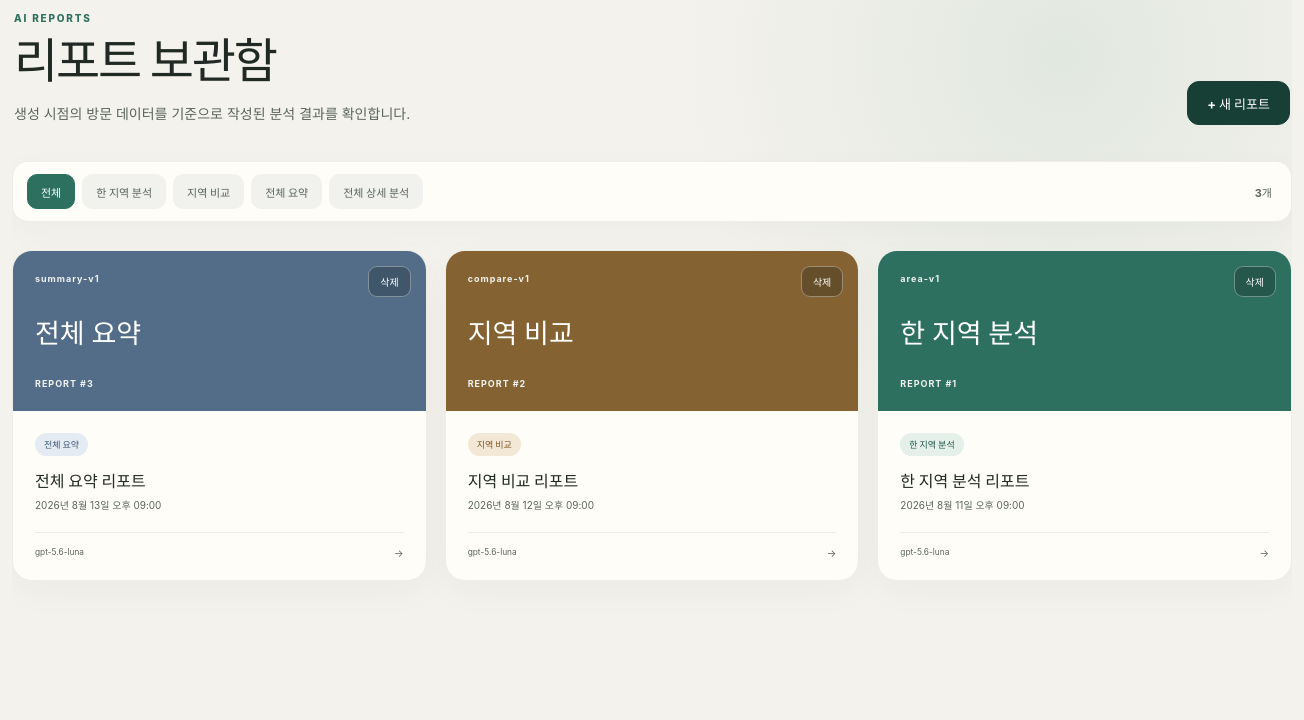
ReportsPage › 전체 목록을 한 번 조회하고 선택한 유형을 즉시 필터링한다
Expected: the heading "한 지역 분석 리포트" is shown, top-left (900, 472), bottom-right (1029, 492)
What coordinates should you click on to do the following:
click the button "지역 비교"
I would click on:
 (209, 192)
Its box is top-left (173, 174), bottom-right (244, 210).
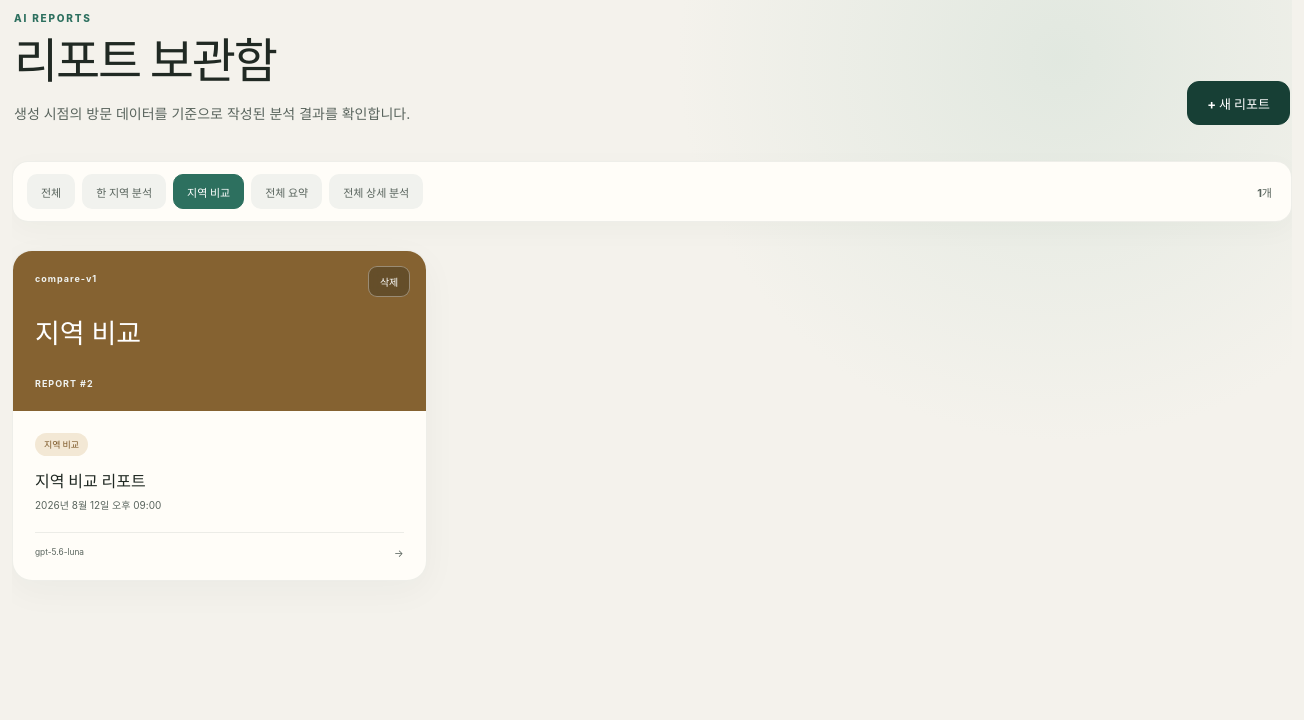
Expected: the heading "지역 비교 리포트" is shown, top-left (35, 472), bottom-right (146, 492)
Expected: the link "한 지역 분석 리포트" is gone
Expected: the text "1개" is shown, top-left (1257, 186), bottom-right (1272, 200)
